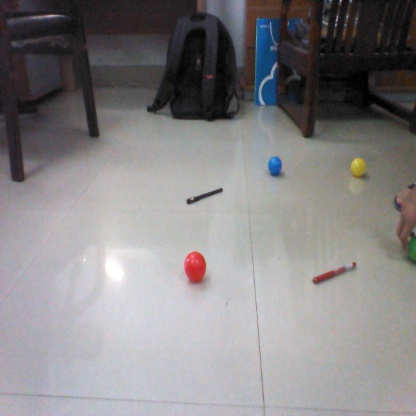ball: (176, 250, 210, 282), (261, 152, 286, 177), (344, 154, 370, 178)
pen: (313, 258, 360, 283), (187, 187, 227, 204)
